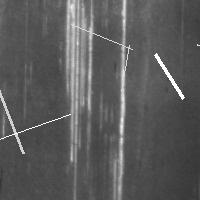scratches: (61, 1, 97, 166), (109, 1, 129, 198), (0, 58, 28, 158), (0, 109, 75, 145), (66, 19, 137, 54), (150, 49, 188, 103), (116, 40, 134, 96), (192, 39, 200, 56)
